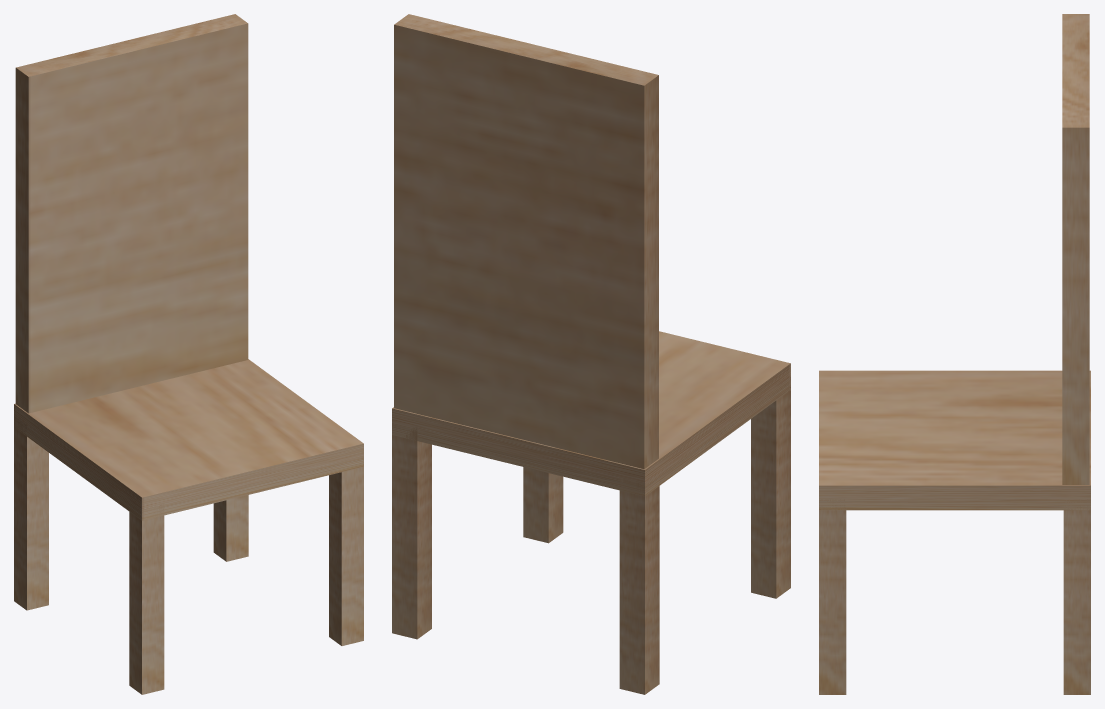
Rendered from krzeslo.obj.
3 views of the same model, side by side, from view 1: azimuth 30°, elevation 25°; view 2: azimuth 150°, elevation 25°; view 3: azimuth 270°, elevation 25° (orthographic). The views are drawn at different scales.
Parts seen in each view (by area): view 1: Cube.001, Cube, Cube.005, Cube.004, Cube.003, Cube.002; view 2: Cube.001, Cube, Cube.003, Cube.002, Cube.005, Cube.004; view 3: Cube, Cube.001, Cube.004, Cube.002.
Boxes of the visible parts, bbox=[...] form: Cube.001: bbox=[15, 14, 248, 413]; Cube: bbox=[14, 359, 363, 520]; Cube.005: bbox=[129, 504, 164, 694]; Cube.004: bbox=[329, 467, 363, 645]; Cube.003: bbox=[14, 416, 48, 610]; Cube.002: bbox=[213, 495, 248, 561]; Cube.001: bbox=[394, 14, 658, 469]; Cube: bbox=[392, 331, 790, 496]; Cube.003: bbox=[619, 478, 659, 694]; Cube.002: bbox=[392, 427, 431, 639]; Cube.005: bbox=[751, 377, 790, 598]; Cube.004: bbox=[523, 467, 563, 543]; Cube: bbox=[819, 370, 1090, 510]; Cube.001: bbox=[1062, 14, 1089, 484]; Cube.004: bbox=[819, 499, 846, 694]; Cube.002: bbox=[1063, 499, 1090, 694].
Size of the model in its own units: 2 by 4.6 by 2.
1 material, 1 textured.
